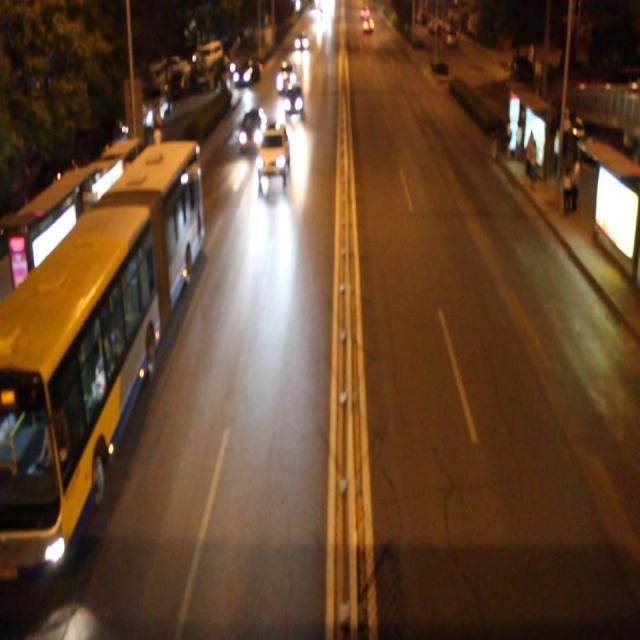car: (256, 124, 289, 178), (238, 107, 266, 149), (282, 82, 303, 119), (275, 60, 295, 93)
van: (1, 140, 200, 585)
